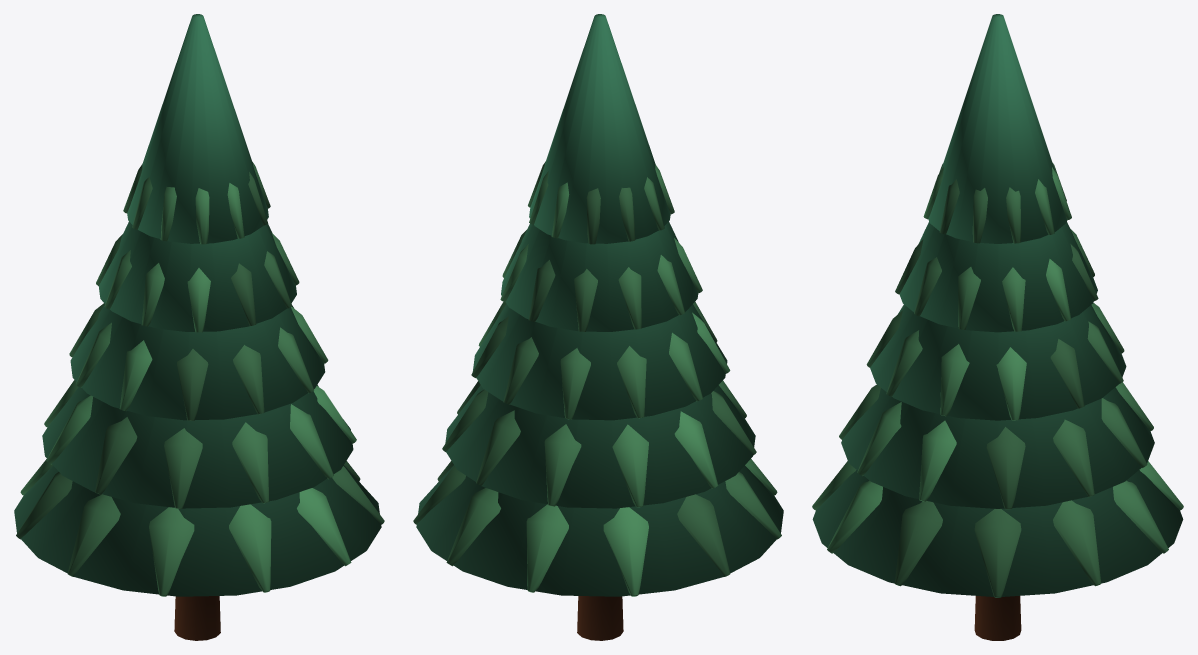
The model's file is pine-DdA2lWXu.glb.
3 renders of one model, left to right at view 1: azimuth 30°, elevation 25°; view 2: azimuth 150°, elevation 25°; view 3: azimuth 270°, elevation 25°, orthographic.
Visible parts, largest first — view 1: canopy, pine; view 2: canopy, pine; view 3: canopy, pine.
Boxes of the visible parts, x1=… form: canopy: x1=14, y1=14, x2=384, y2=596; pine: x1=174, y1=596, x2=220, y2=640; canopy: x1=413, y1=14, x2=783, y2=596; pine: x1=577, y1=596, x2=623, y2=640; canopy: x1=812, y1=14, x2=1183, y2=597; pine: x1=974, y1=596, x2=1021, y2=640.
Size of the model in its own units: 3.15 by 5.75 by 3.15.
